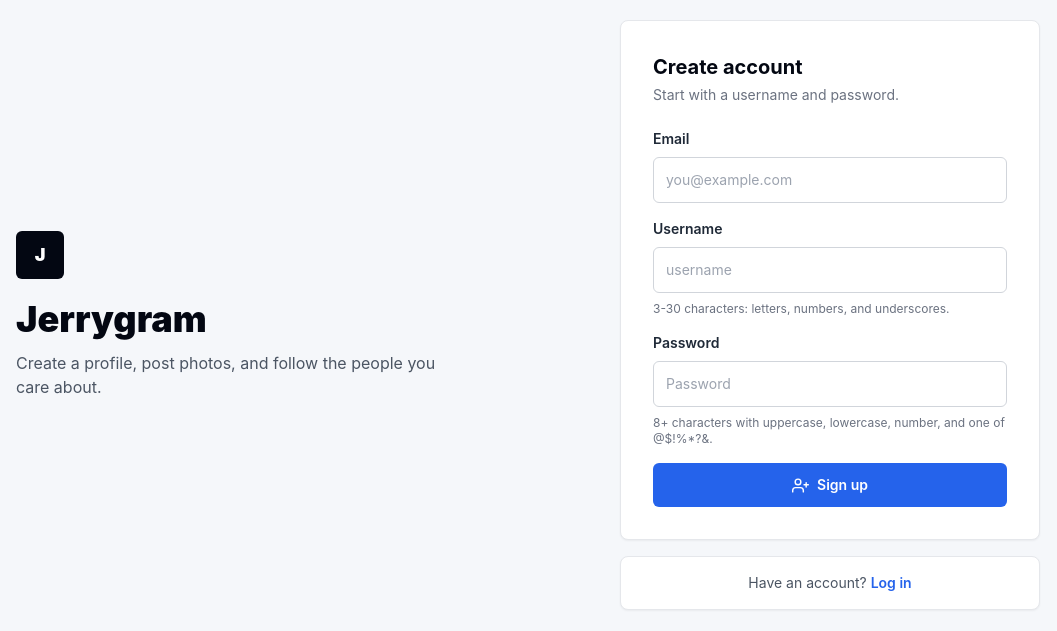
RegisterPage › shows field-level messages before submitting invalid data
Click the button "Sign up" at (830,485), box [653,463,1007,507]
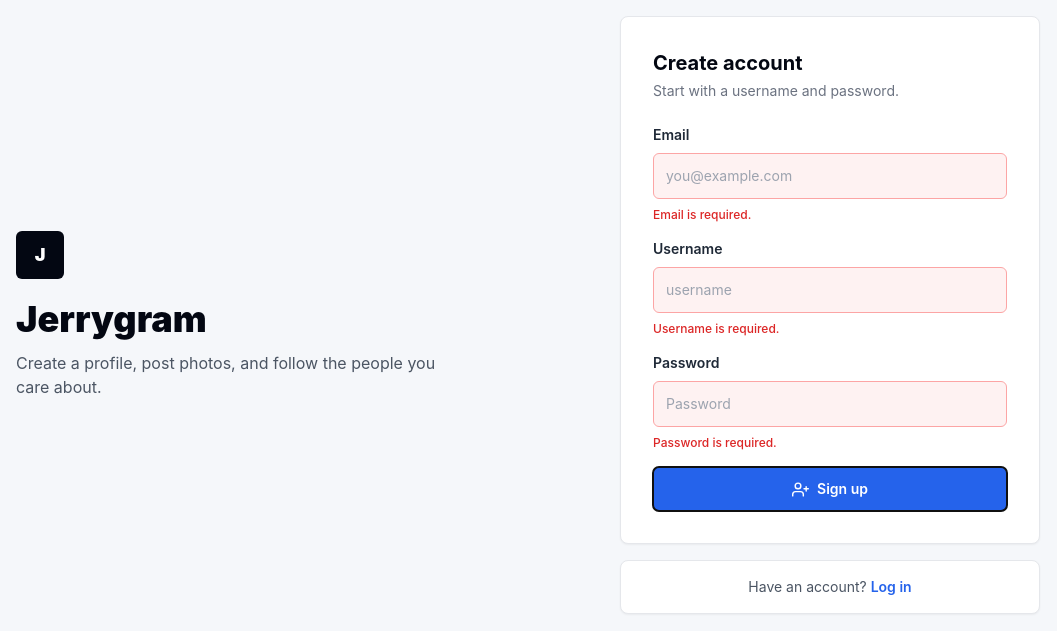
Now the text "Email is required." is shown, box [653,207,751,222]
Now the text "Username is required." is shown, box [653,321,780,336]
Now the text "Password is required." is shown, box [653,435,777,450]
